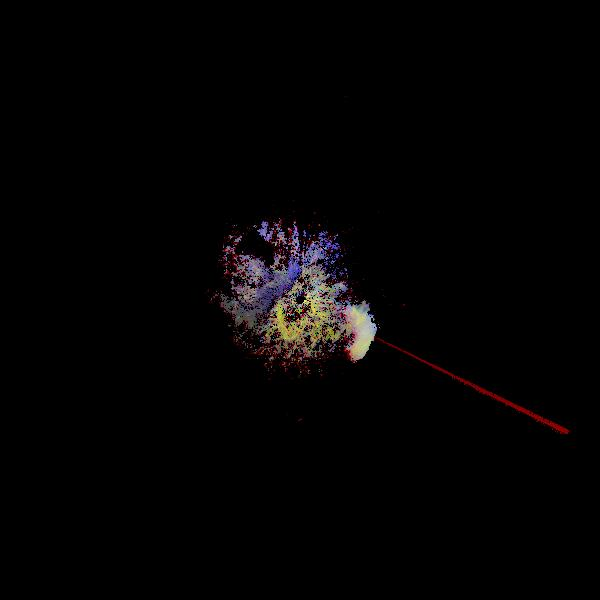roost: (222, 263, 408, 449)
